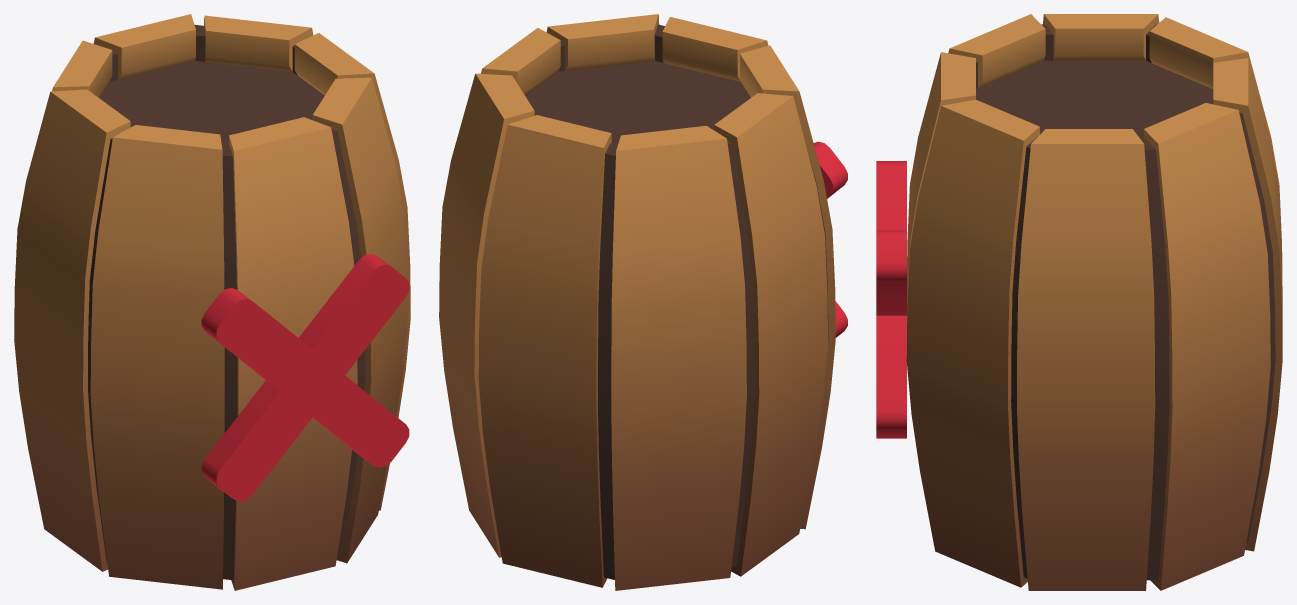
3 views of the same model, side by side, from view 1: azimuth 30°, elevation 25°; view 2: azimuth 150°, elevation 25°; view 3: azimuth 270°, elevation 25° (orthographic).
Visible parts, largest first — view 1: LOD 0_4746937021995407784_ff341511bebd94b45835b85c6ba3315b; view 2: LOD 0_4746937021995407784_ff341511bebd94b45835b85c6ba3315b; view 3: LOD 0_4746937021995407784_ff341511bebd94b45835b85c6ba3315b.
Boxes of the visible parts, <box> form: LOD 0_4746937021995407784_ff341511bebd94b45835b85c6ba3315b: <box>14,14,410,590</box>; LOD 0_4746937021995407784_ff341511bebd94b45835b85c6ba3315b: <box>439,14,847,590</box>; LOD 0_4746937021995407784_ff341511bebd94b45835b85c6ba3315b: <box>876,14,1282,590</box>.
Bounding box in the file's own units: 0.7621 × 0.995 × 0.8237.
